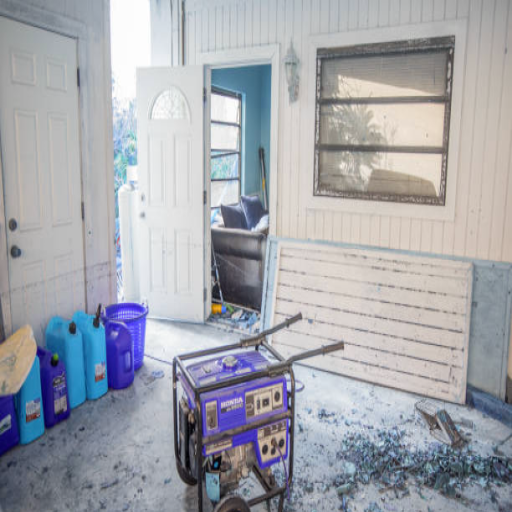portable_generator: (172, 337, 297, 512)
